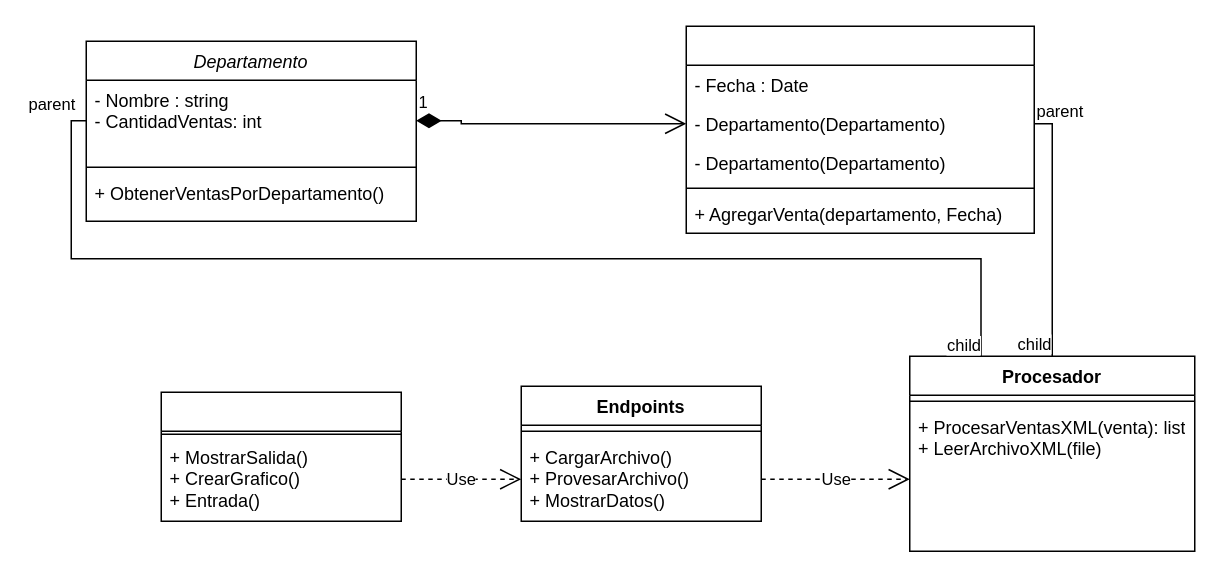
The diagram is 1221 pixels wide and 582 high, and some of its shapes have lost their labels. Here are the shapes that lost their labels. From the top down, the box of each, then its label:
(685, 25, 1034, 233): Ventas
(160, 391, 401, 521): Interfaz
